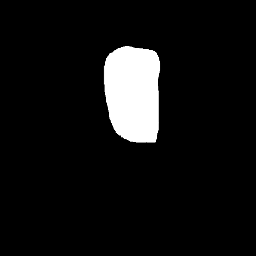mass: (109, 51, 159, 129)
